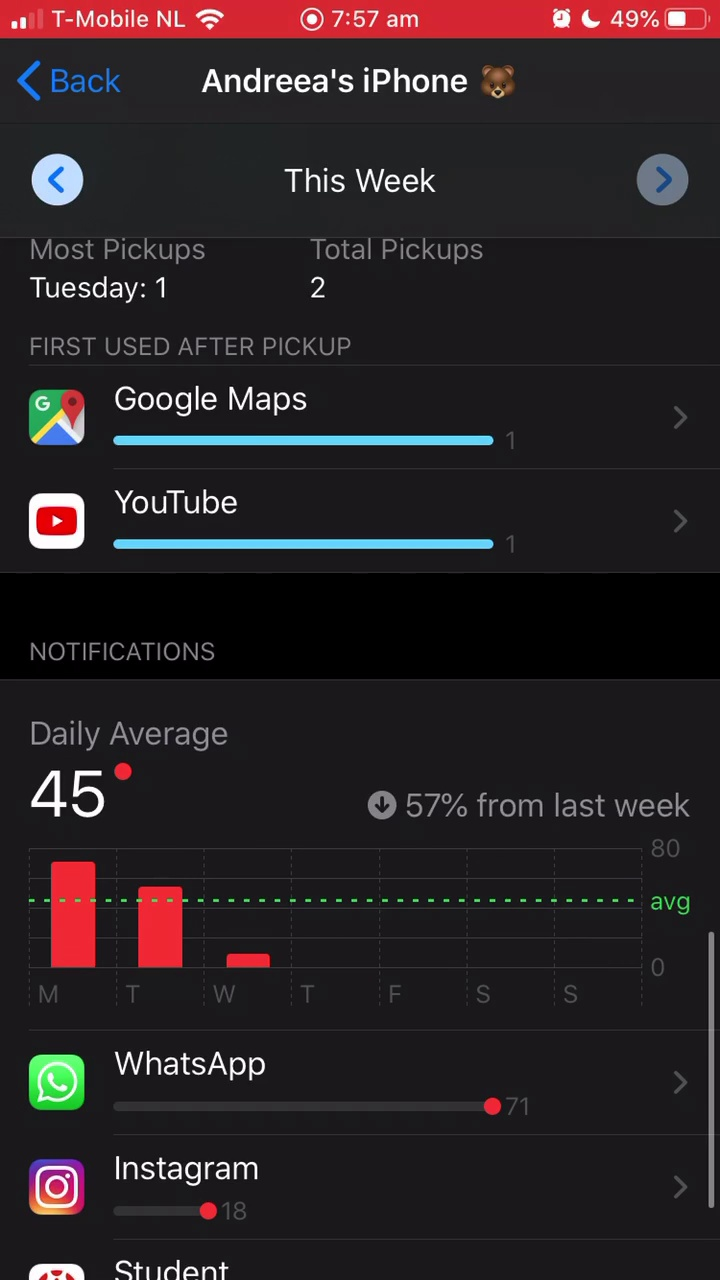not_app: (12, 1028, 557, 1132), (12, 1144, 307, 1232)
not_over: (12, 624, 260, 836)
pick_app: (14, 369, 536, 480), (17, 480, 546, 571)
week: (271, 152, 442, 201)
